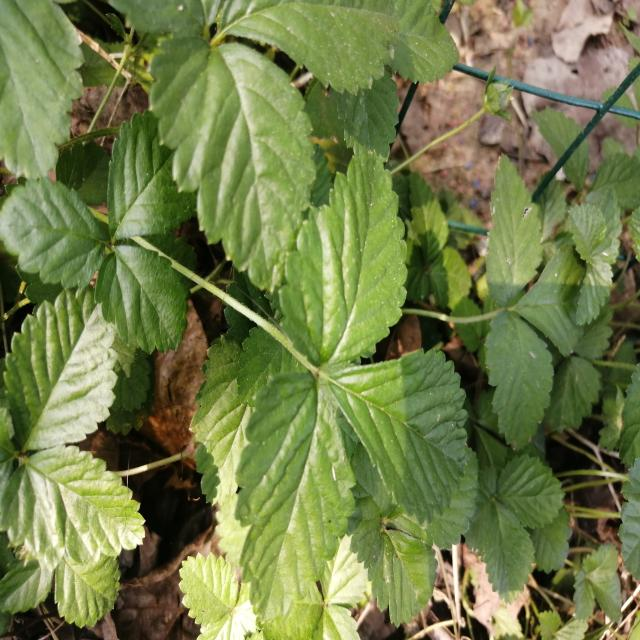Mock_strawberry: (0, 284, 152, 593)
